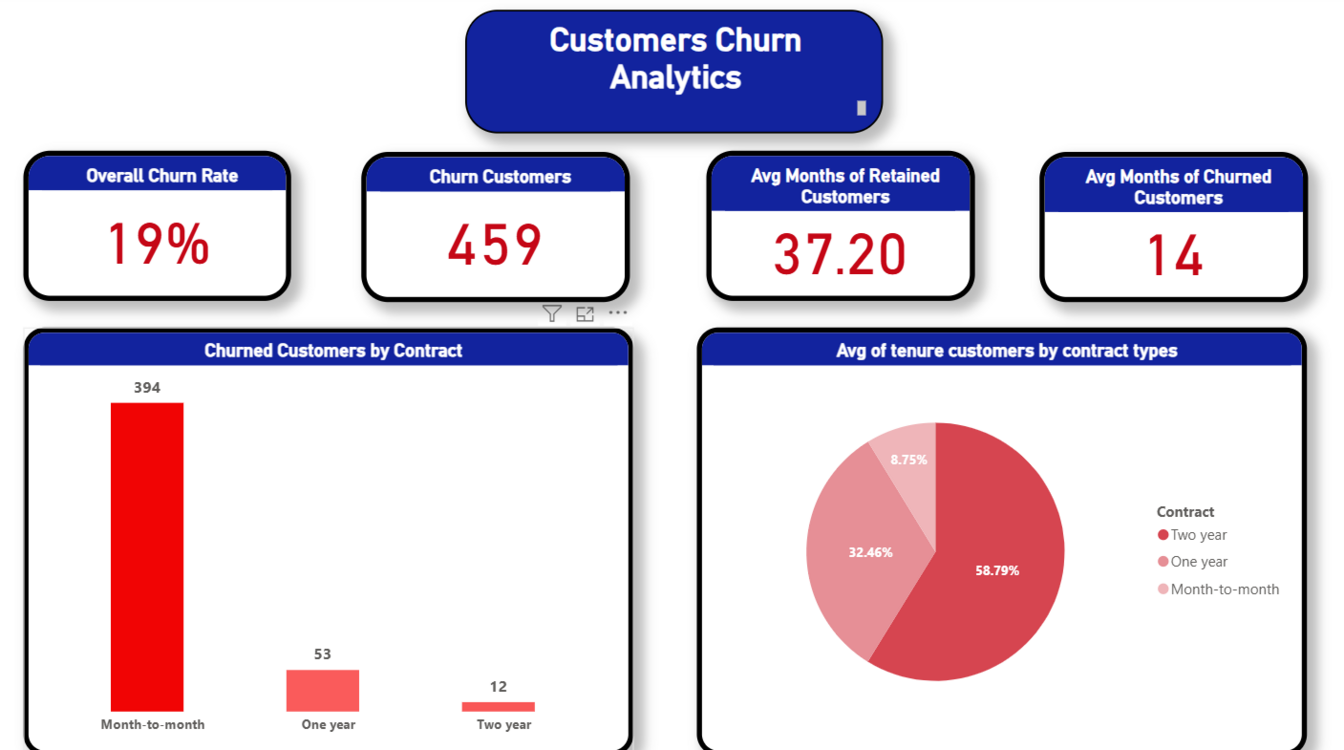

The dashboard page shown, as its layout file describes it:
{"tool":"powerbi","page":{"name":"Measures","canvas":[1280,720],"ordinal":0},"visuals":[{"type":"card","title":"Overall Churn Rate","fields":{"Values":["DimMeasures.OverallChurnRate"]},"box":[32.9,145.5,249.7,140],"z":0},{"type":"pieChart","title":"churn rate by Contract type","fields":{"Category":["DimCustomers.Contract"],"Y":["DimMeasures.OverallChurnRate"]},"box":[32.9,310.1,569,399],"z":1000},{"type":"card","title":"Churn Customers","fields":{"Values":["DimMeasures.ChurnedCustomers"]},"box":[348.5,146.8,250,140],"z":2000},{"type":"card","title":"Avg Months of Retained Customers","fields":{"Values":["DimMeasures.AVGRetainedofChurnedCustomers"]},"box":[669.6,145.5,250,140],"z":3000},{"type":"card","title":"Avg Months of Churned Customers","fields":{"Values":["DimMeasures.AVGTenureMonthsofChurnedCustomers"]},"box":[981.1,146.8,250,140],"z":4000},{"type":"textbox","title":"Customers Churn Analytics","box":[445.3,13.9,389.6,115.1],"z":5000},{"type":"clusteredColumnChart","title":"AVG tenure months of churned vs retained customers","fields":{"Category":["FactChurn.Churn"],"Y":["Avg(DimCustomers.tenure months)"]},"box":[634.9,310.5,596.5,399],"z":6000}]}

Visuals, with their boxes in screenshot pixels (x1, y1, x2, y2), scaled from the page's 1280x720 canvas onto the 1344x750 screenshot:
"Overall Churn Rate" card: bbox=(35, 152, 297, 297)
"churn rate by Contract type" pieChart: bbox=(35, 323, 632, 739)
"Churn Customers" card: bbox=(366, 153, 628, 299)
"Avg Months of Retained Customers" card: bbox=(703, 152, 966, 297)
"Avg Months of Churned Customers" card: bbox=(1030, 153, 1293, 299)
"Customers Churn Analytics" textbox: bbox=(468, 14, 877, 134)
"AVG tenure months of churned vs retained customers" clusteredColumnChart: bbox=(667, 323, 1293, 739)
